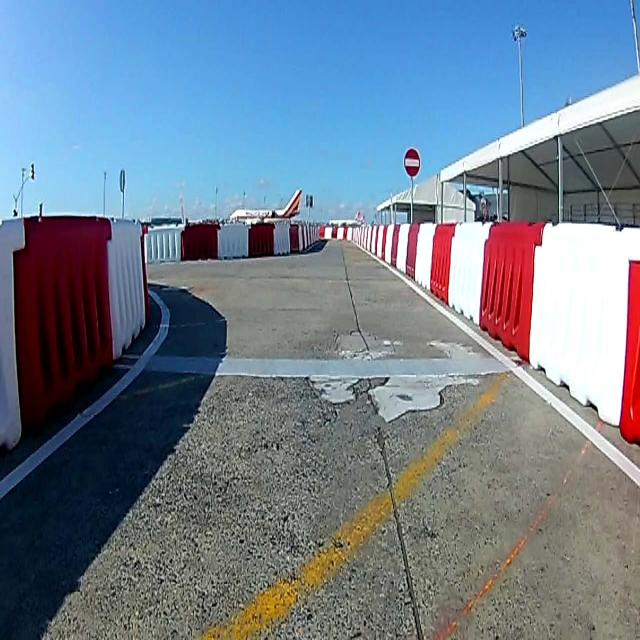girisyok: (403, 148, 421, 176)
